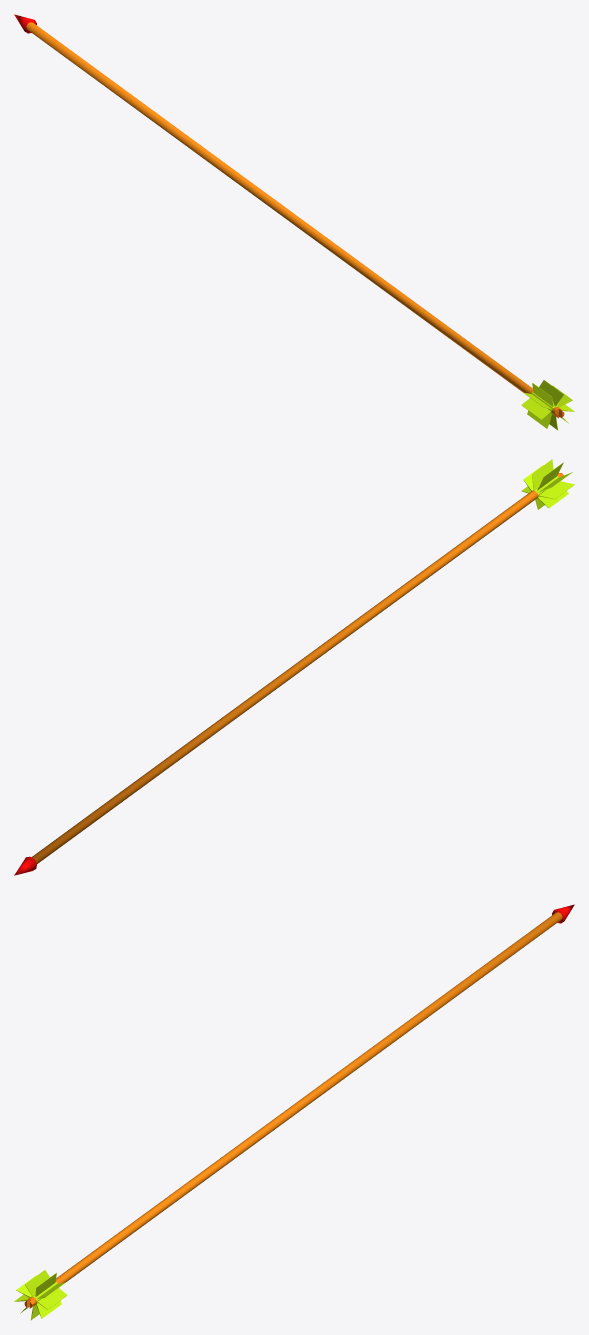
Rendered from arrow.glb.
3 views of the same model, one above another, from view 1: azimuth 30°, elevation 25°; view 2: azimuth 150°, elevation 25°; view 3: azimuth 330°, elevation 25° (orthographic).
Parts seen in each view (by area): view 1: arrow; view 2: arrow; view 3: arrow.
Boxes of the visible parts, <box> form: arrow: <box>14,14,574,430</box>; arrow: <box>14,459,574,875</box>; arrow: <box>14,904,574,1320</box>.
Size of the model in its own units: 0.0259 by 0.0255 by 0.7288.
1 material, 1 textured.
